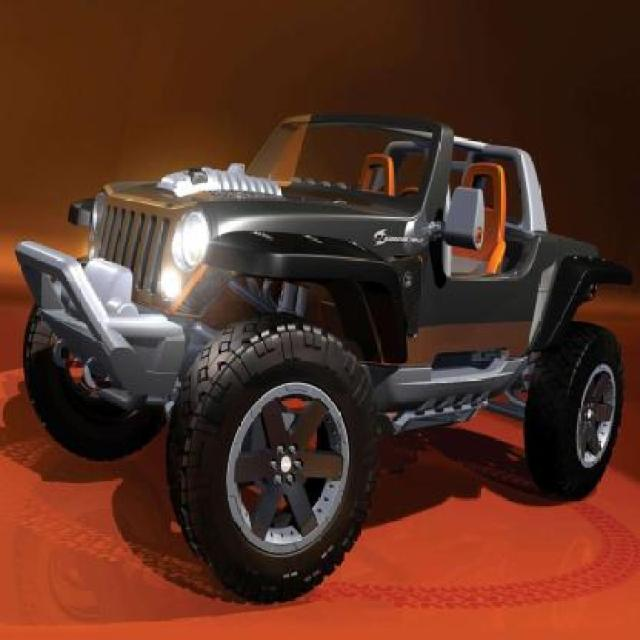Jeep: (18, 100, 625, 624)
